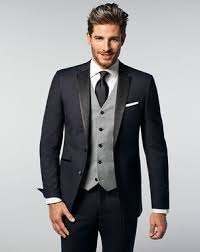F_M_suit jacket: (36, 56, 173, 217)
F_tie: (93, 67, 114, 117)
